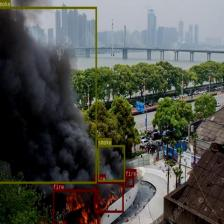fire: (53, 189, 98, 224), (94, 181, 124, 212), (125, 176, 134, 186)
smoke: (0, 6, 96, 183), (98, 145, 125, 181)
